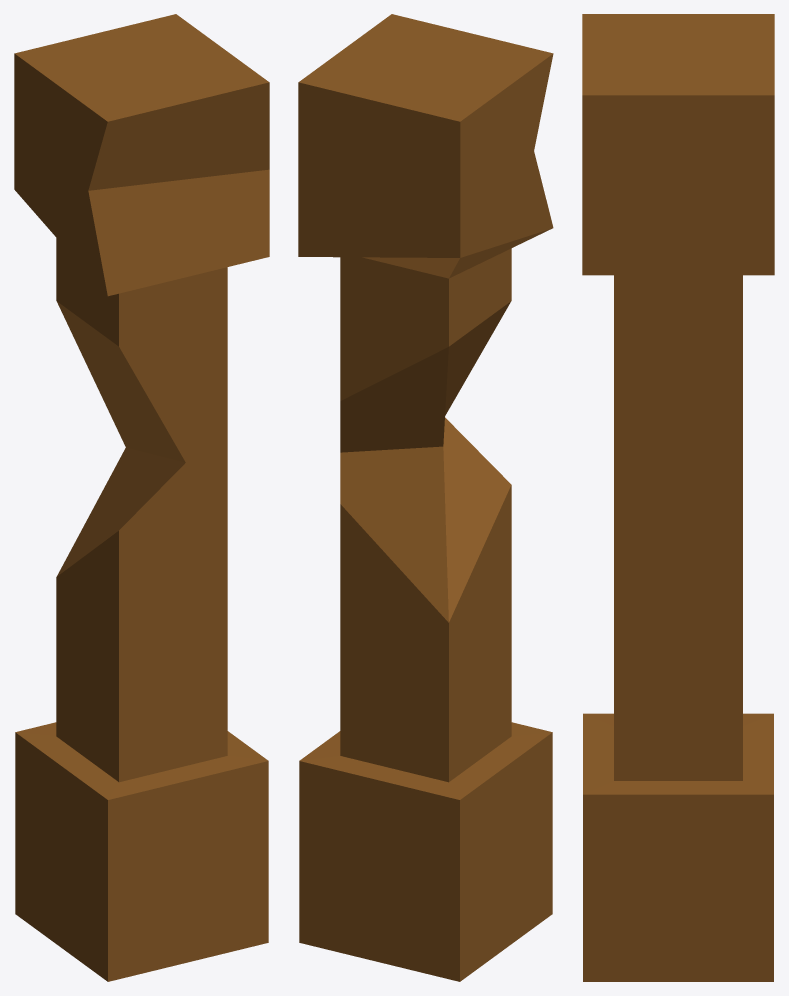
The model's file is Pilar quebrada V2.fbx.
3 views of the same model, side by side, from view 1: azimuth 30°, elevation 25°; view 2: azimuth 150°, elevation 25°; view 3: azimuth 270°, elevation 25° (orthographic). The views are drawn at different scales.
Visible parts, largest first — view 1: Cube.012; view 2: Cube.012; view 3: Cube.012.
Boxes of the visible parts, <box> form: Cube.012: <box>14,14,269,981</box>; Cube.012: <box>298,14,553,981</box>; Cube.012: <box>582,14,774,981</box>.
Size of the model in its own units: 80.16 by 408 by 80.16.
